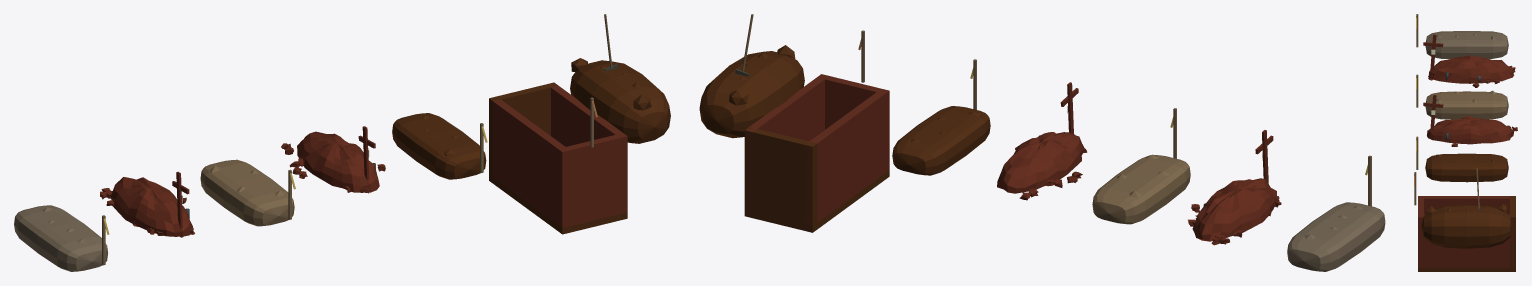
The model's file is grave_row.glb.
3 views of the same model, side by side, from view 1: azimuth 30°, elevation 25°; view 2: azimuth 150°, elevation 25°; view 3: azimuth 270°, elevation 25° (orthographic). The views are drawn at different scales.
Parts seen in each view (by area): view 1: grave_row; view 2: grave_row; view 3: grave_row.
Part boxes in pixels (<box>): grave_row: <box>14,14,670,271</box>; grave_row: <box>699,14,1385,271</box>; grave_row: <box>1414,14,1517,271</box>.
Size of the model in its own units: 11.88 by 3.07 by 2.61.
